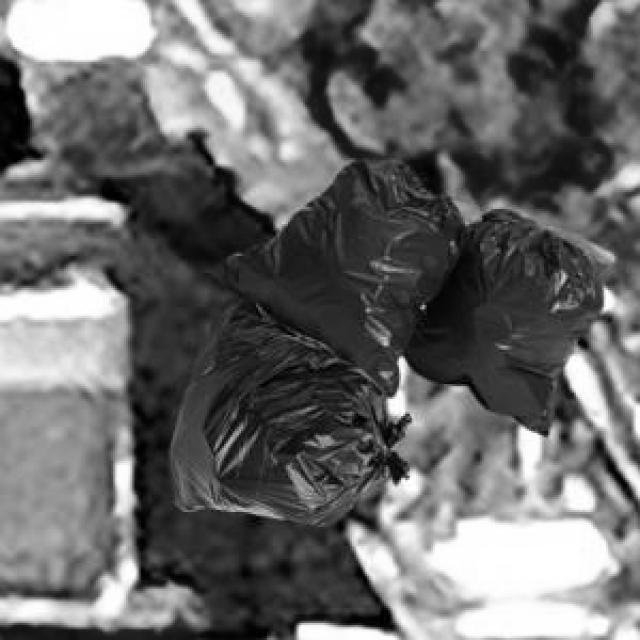miscellaneous trash: (201, 156, 610, 431), (166, 292, 408, 521)
